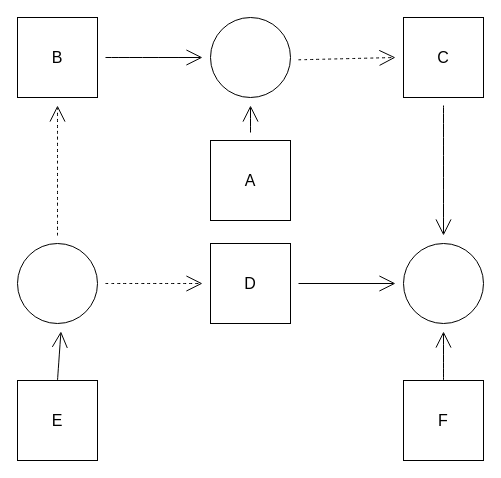
Some shapes in this 501 by 478 pixel diagram are drawn without their labels. The box of each missing label's shape, as (x1, y1, x2, y2) in pixels:
P0: (210, 16, 290, 98)
P1: (16, 242, 98, 324)
P2: (402, 242, 484, 324)
